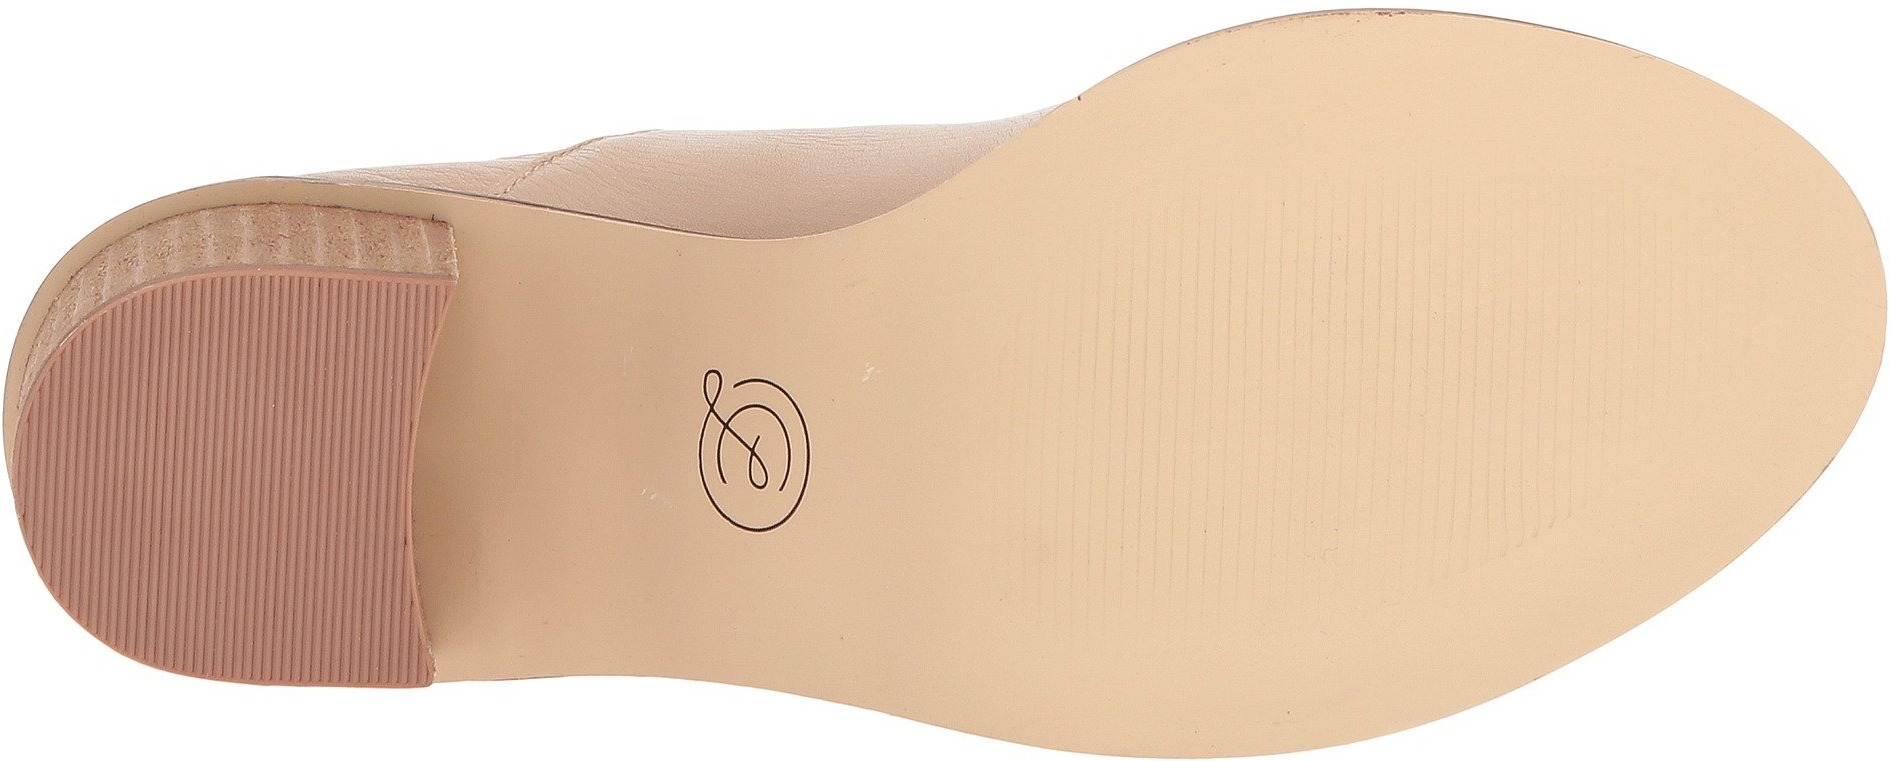other: (1302, 183, 1624, 545), (997, 239, 1295, 540), (48, 363, 323, 601), (1633, 212, 1832, 445), (1143, 601, 1315, 754), (1245, 42, 1407, 170)
